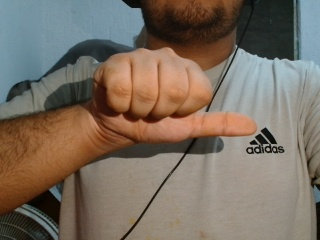Izquierda: (81, 47, 265, 152)
